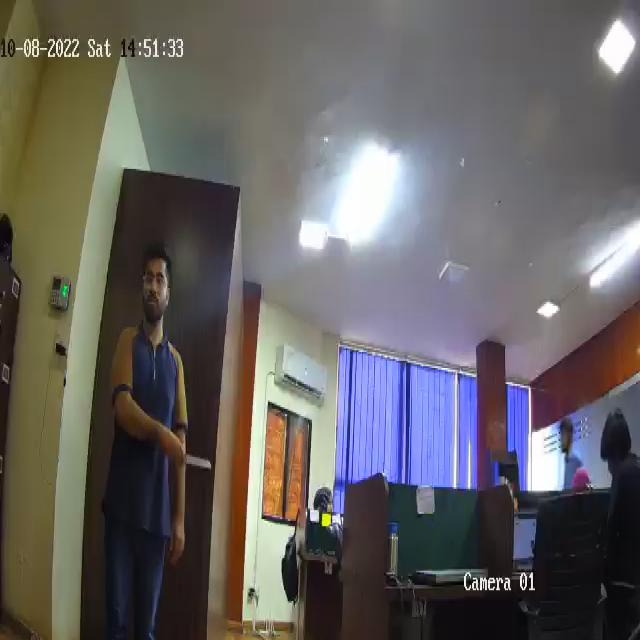weapon: (173, 446, 212, 469)
